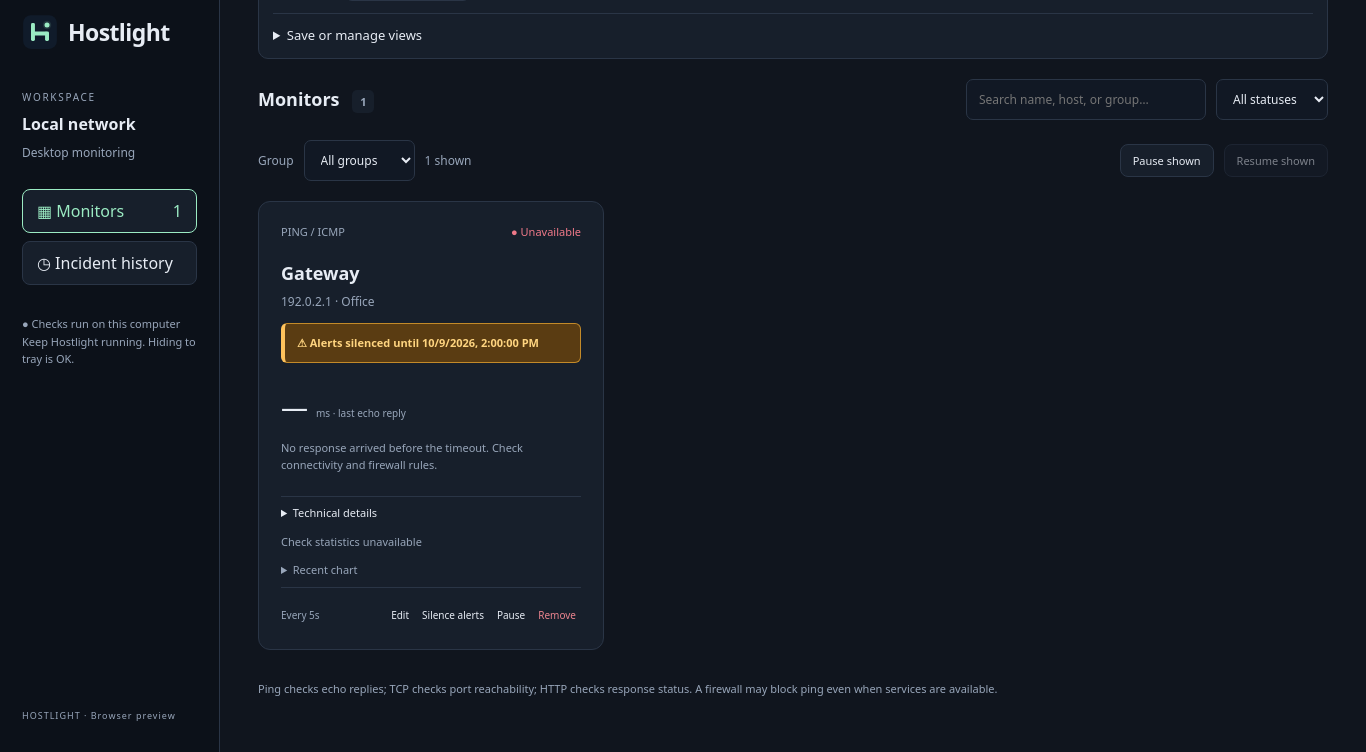
Test: monitor alert controls › shows suppression separately from availability and opens monitor-specific controls
(page scrolled)
Expected: the text with class "state" shows "Unavailable", [511, 224, 581, 239]
Expected: the text with class "silence-badge" shows "Alerts silenced until", [310, 335, 539, 350]
Click the button "Silence alerts": (453, 615) [417, 603, 489, 627]
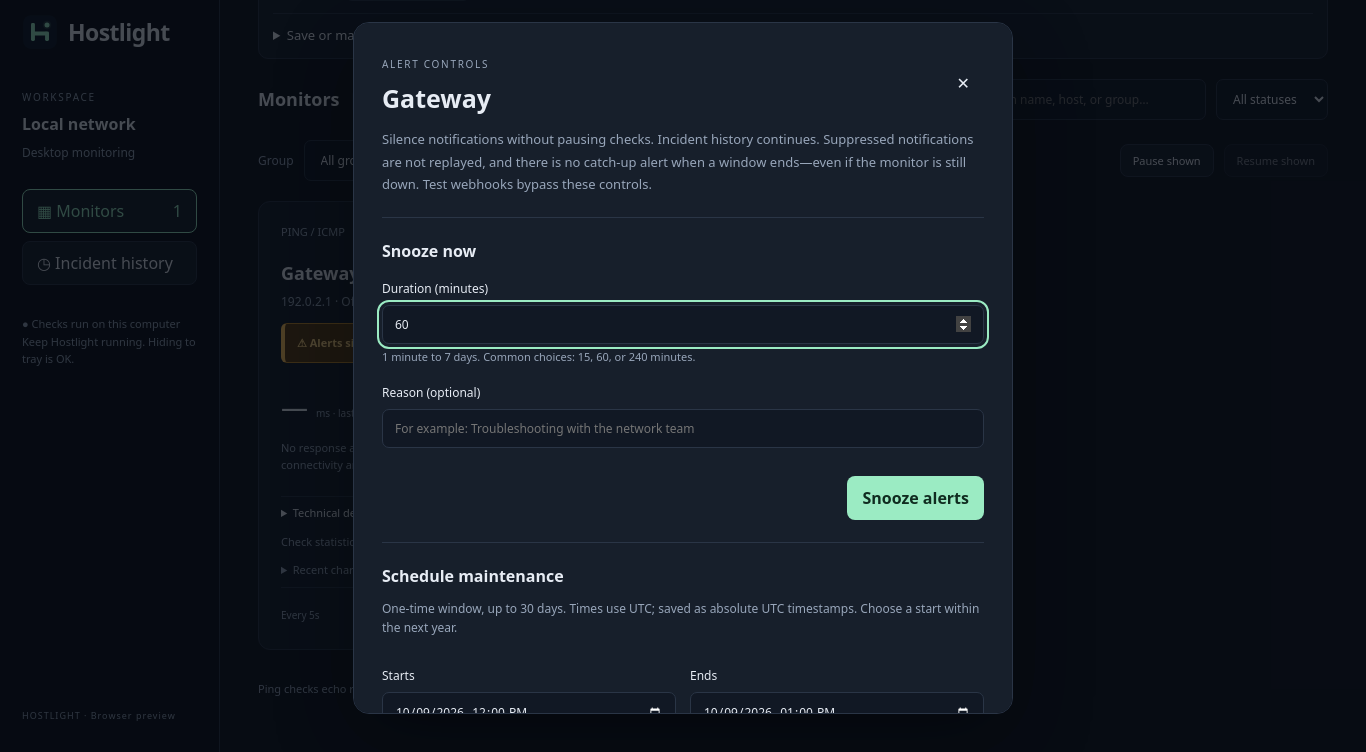
Expected: the dialog shows "Gateway", [382, 81, 491, 115]
